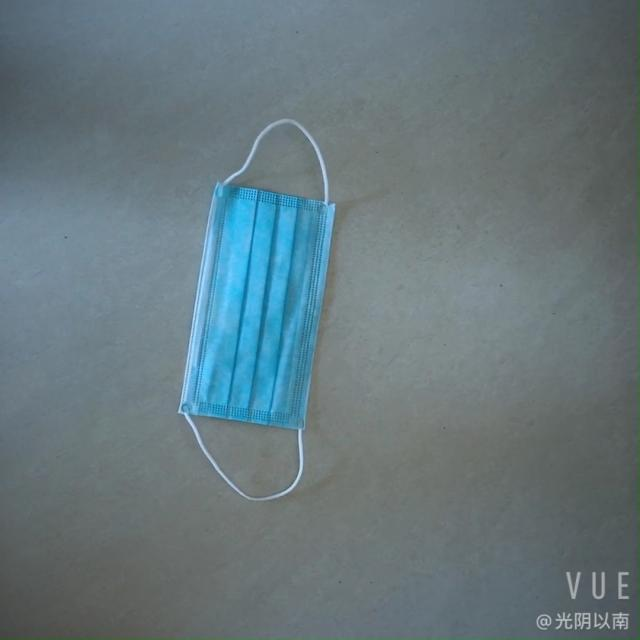face mask: (168, 160, 364, 440)
